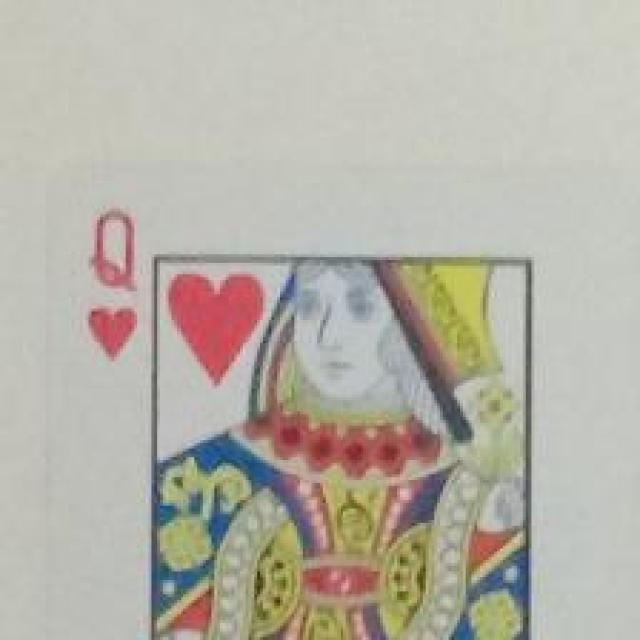Queen of hearts: (47, 130, 638, 640)
